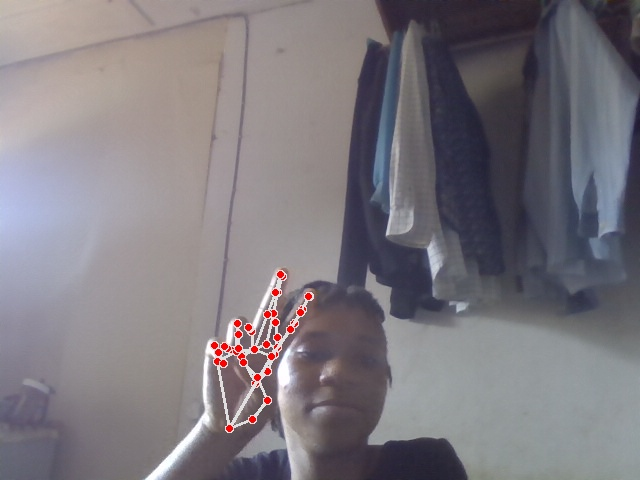peace: (203, 266, 317, 437)
